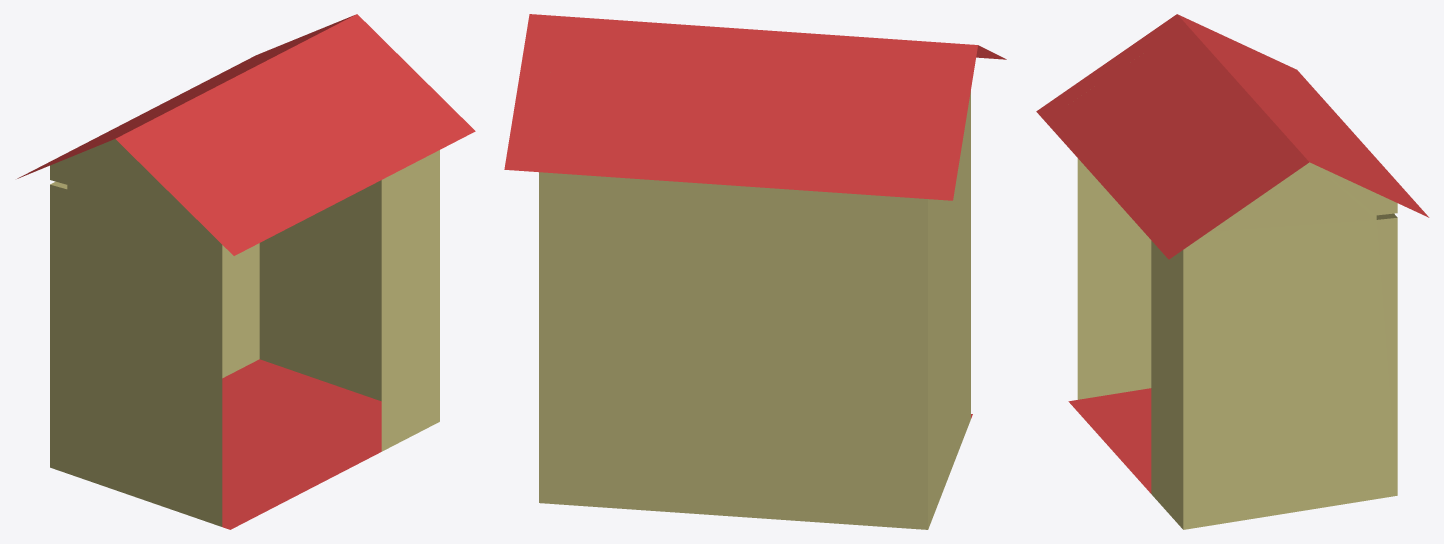
3 renders of one model, left to right at view 1: azimuth 30°, elevation 25°; view 2: azimuth 150°, elevation 25°; view 3: azimuth 270°, elevation 25°, orthographic. The views are drawn at different scales.
Size of the model in its own units: 9.02 by 7.9 by 7.94.
